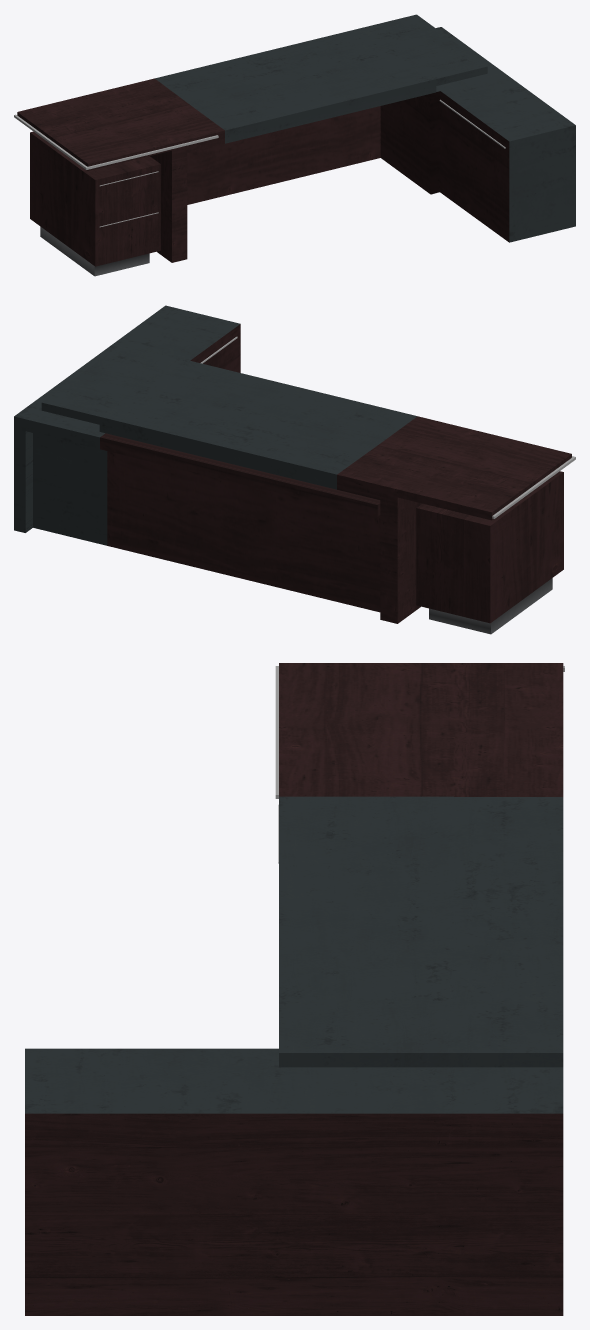
The model's file is F_Desk.fbx.
3 renders of one model, top to bottom at view 1: azimuth 30°, elevation 25°; view 2: azimuth 150°, elevation 25°; view 3: azimuth 270°, elevation 25°, orthographic. The views are drawn at different scales.
Parts seen in each view (by area): view 1: polySurface3, polySurface2, pCube5, pCube6, pCube7; view 2: polySurface2, polySurface3, pCube5, pCube7; view 3: polySurface2, polySurface3.
Part boxes in pixels (x1,y1,x2,y2): polySurface3: [17, 14, 487, 262]; polySurface2: [187, 27, 575, 242]; pCube5: [30, 131, 160, 276]; pCube6: [86, 135, 218, 169]; pCube7: [14, 114, 86, 169]; polySurface2: [14, 305, 380, 612]; polySurface3: [41, 344, 571, 623]; pCube5: [416, 471, 563, 634]; pCube7: [492, 457, 575, 518]; polySurface2: [25, 1048, 563, 1315]; polySurface3: [279, 663, 563, 1067].
Size of the model in its own units: 3.47 by 0.9278 by 1.9.
